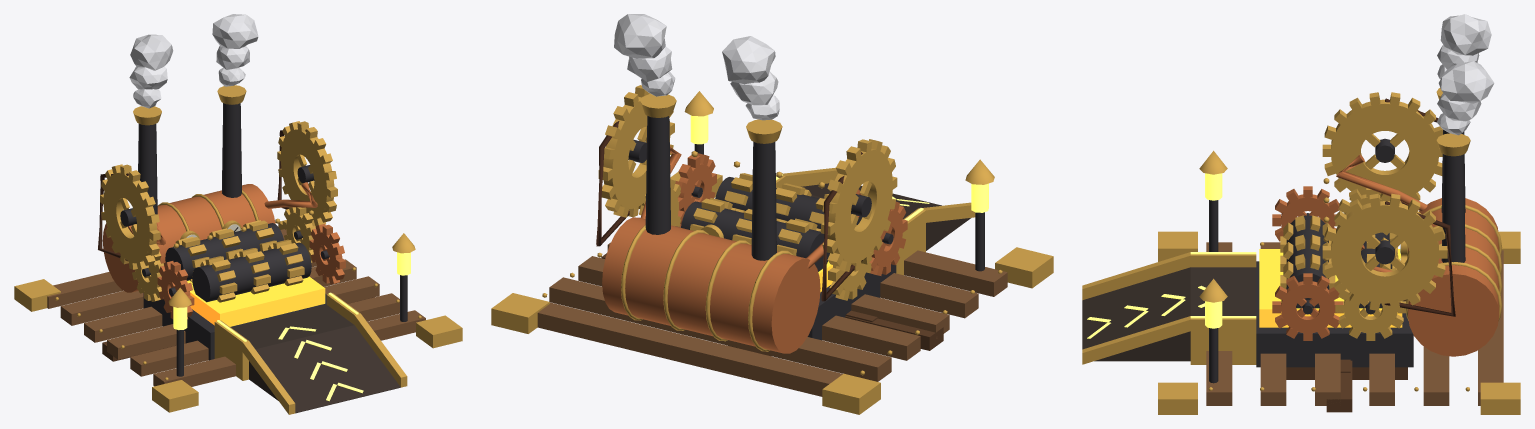
The model's file is ClockworkGrinderFurnace_Roblox.fbx.
The picture shows the model from 3 angles, left to right: view 1: azimuth 30°, elevation 25°; view 2: azimuth 150°, elevation 25°; view 3: azimuth 270°, elevation 25°; orthographic projection. The views are drawn at different scales.
Visible parts, largest first — view 1: Brass, DeckPlanks, DarkIron, Conveyor, Copper, Steam, BurnZone, AmberGlow, LeatherBelt; view 2: Brass, DeckPlanks, Copper, DarkIron, Steam, LeatherBelt, Conveyor, AmberGlow, DarkPlanks; view 3: Brass, Copper, DarkIron, Conveyor, DeckPlanks, Steam, AmberGlow, BurnZone, DarkPlanks, LeatherBelt.
Part boxes in pixels (bbox=[...]): Brass: bbox=[14, 85, 462, 414]; DeckPlanks: bbox=[47, 229, 425, 386]; DarkIron: bbox=[120, 103, 407, 376]; Conveyor: bbox=[231, 304, 400, 413]; Copper: bbox=[102, 182, 345, 319]; Steam: bbox=[129, 14, 258, 108]; BurnZone: bbox=[187, 276, 325, 326]; AmberGlow: bbox=[173, 252, 410, 401]; LeatherBelt: bbox=[98, 129, 306, 261]; Brass: bbox=[491, 85, 1053, 414]; DeckPlanks: bbox=[537, 226, 1007, 396]; Copper: bbox=[602, 146, 907, 353]; DarkIron: bbox=[628, 116, 984, 340]; Steam: bbox=[614, 14, 779, 120]; LeatherBelt: bbox=[596, 121, 862, 301]; Conveyor: bbox=[801, 183, 970, 250]; AmberGlow: bbox=[690, 115, 988, 220]; DarkPlanks: bbox=[601, 253, 943, 356]; Brass: bbox=[1082, 88, 1520, 414]; Copper: bbox=[1272, 154, 1499, 356]; DarkIron: bbox=[1209, 129, 1465, 383]; Conveyor: bbox=[1082, 267, 1256, 361]; DeckPlanks: bbox=[1206, 242, 1503, 405]; Steam: bbox=[1437, 14, 1494, 135]; AmberGlow: bbox=[1087, 173, 1256, 338]; BurnZone: bbox=[1259, 249, 1402, 327]; DarkPlanks: bbox=[1286, 300, 1407, 412]; LeatherBelt: bbox=[1384, 98, 1455, 316].
Size of the model in its own units: 1390 by 1325 by 1535.
